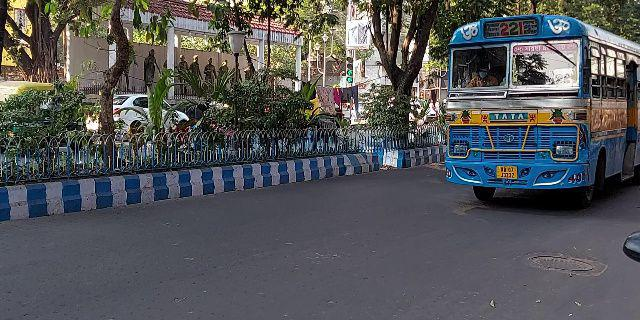Bus: (443, 10, 640, 209)
